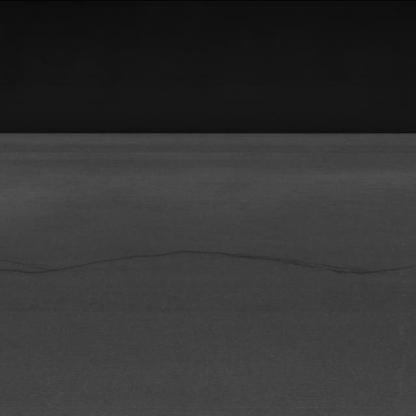water_spot: (21, 240, 405, 298)
